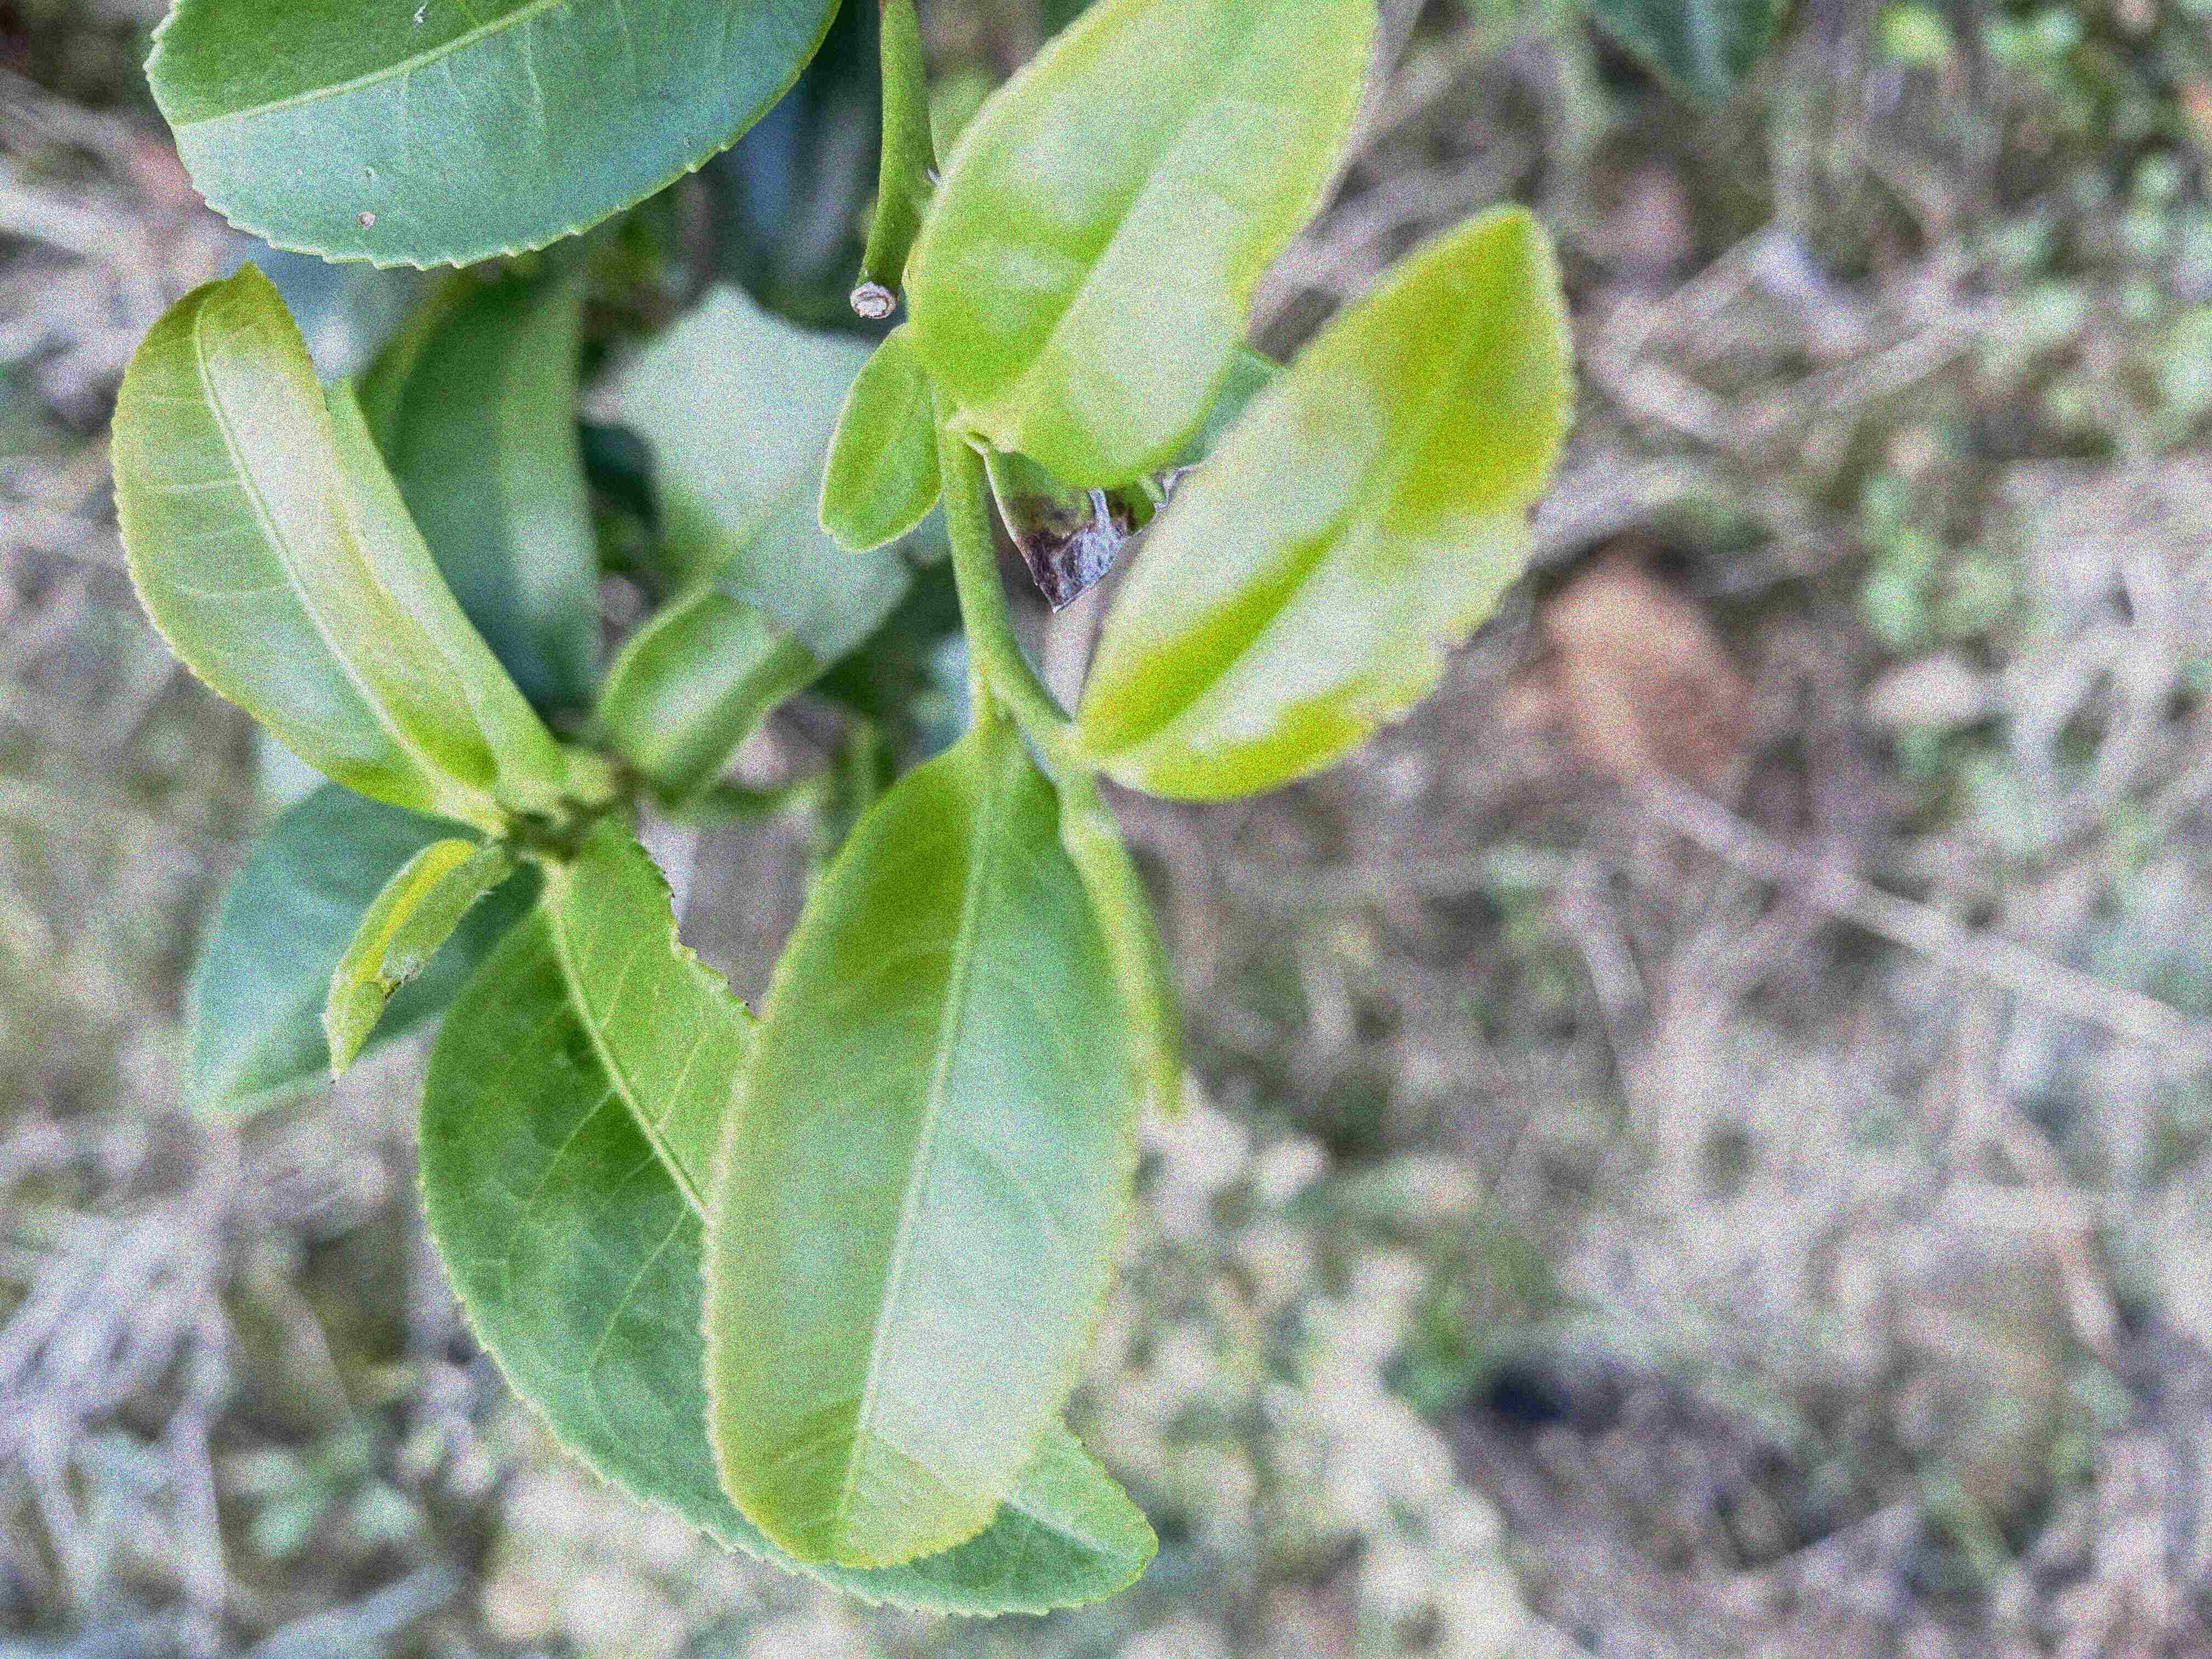healthy: (411, 817, 1160, 1622), (702, 748, 1141, 1567), (111, 261, 500, 807)
tanju_low: (1069, 206, 1587, 807), (139, 3, 846, 272)
